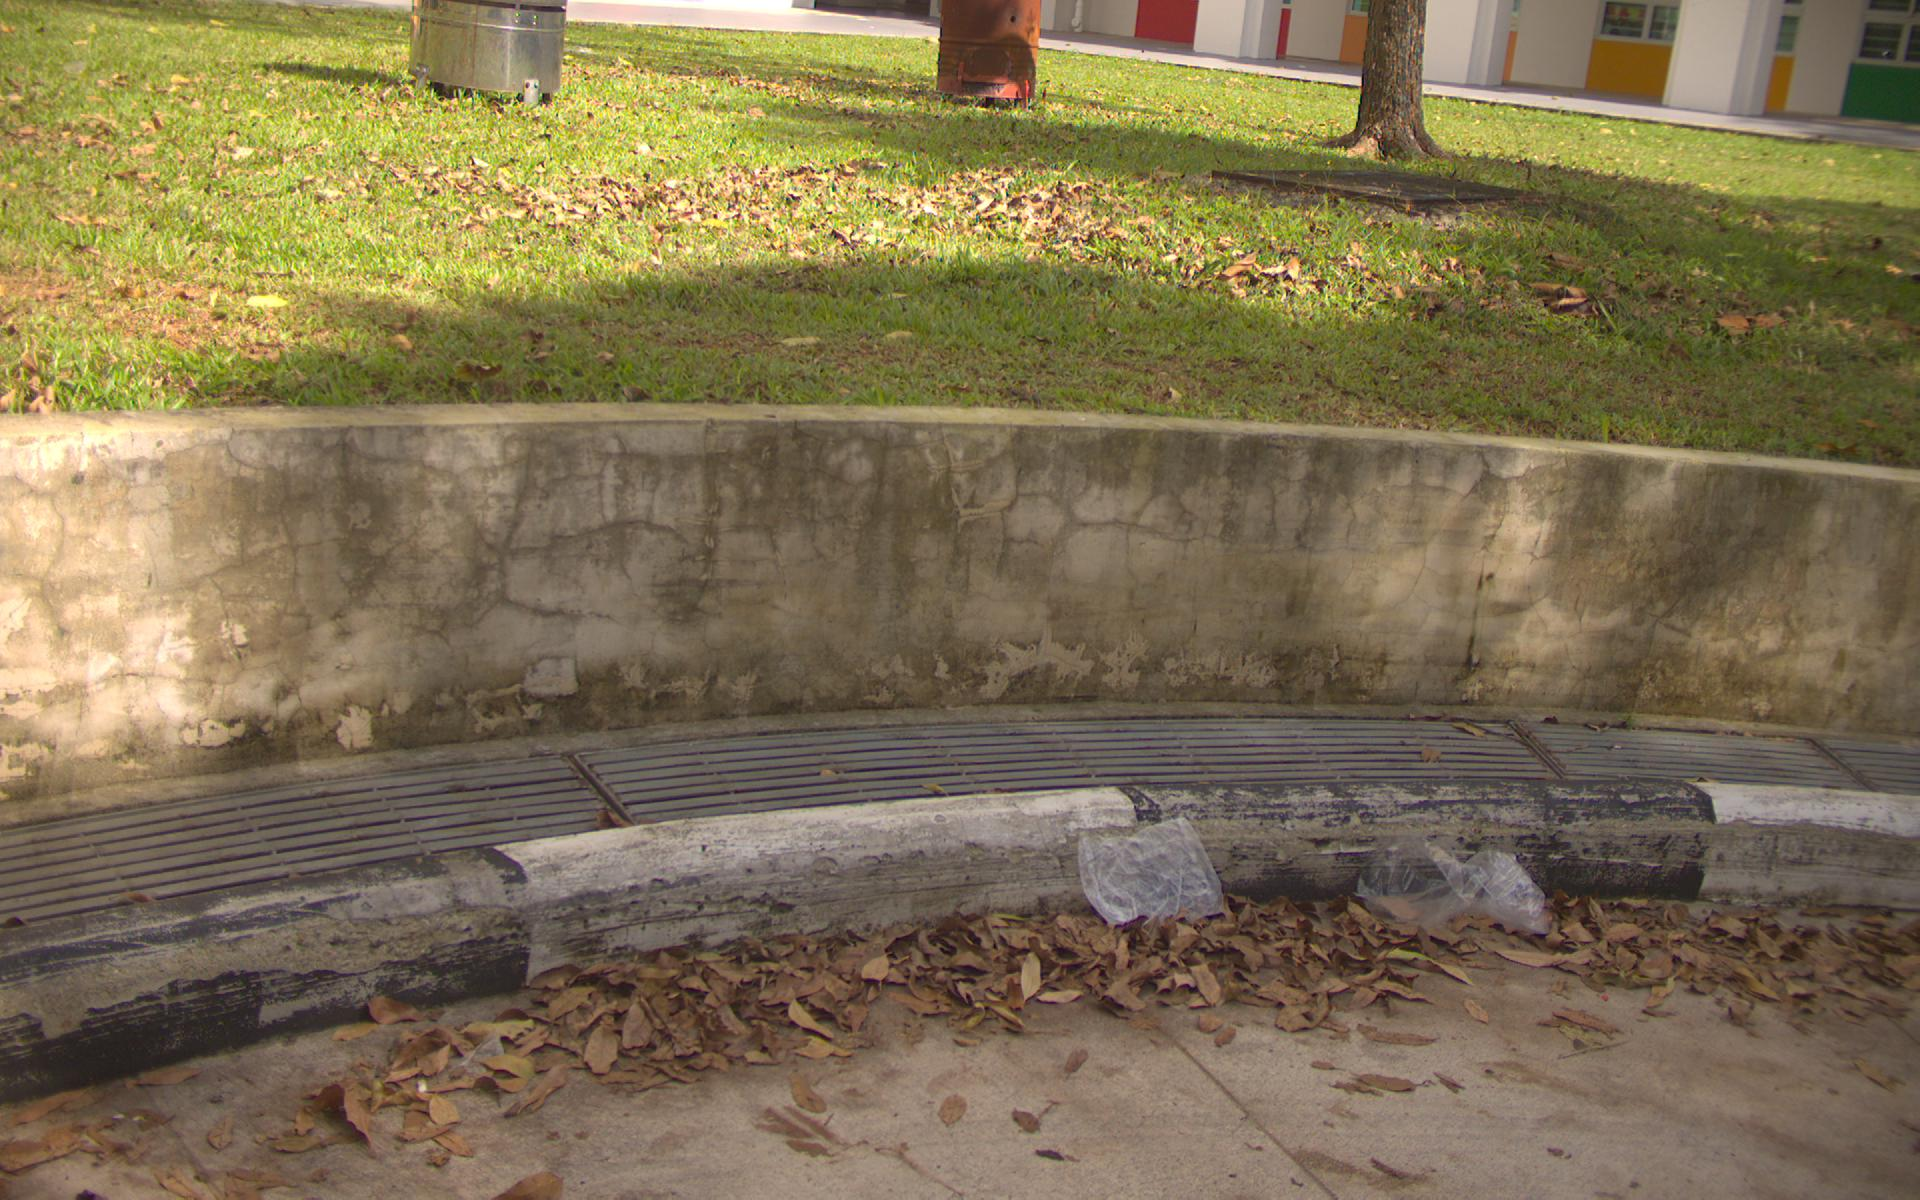curb_dic_low: (491, 700, 1920, 810)
road_curb_medium: (753, 890, 1920, 1087)
road_turf_low: (21, 90, 1901, 401)
